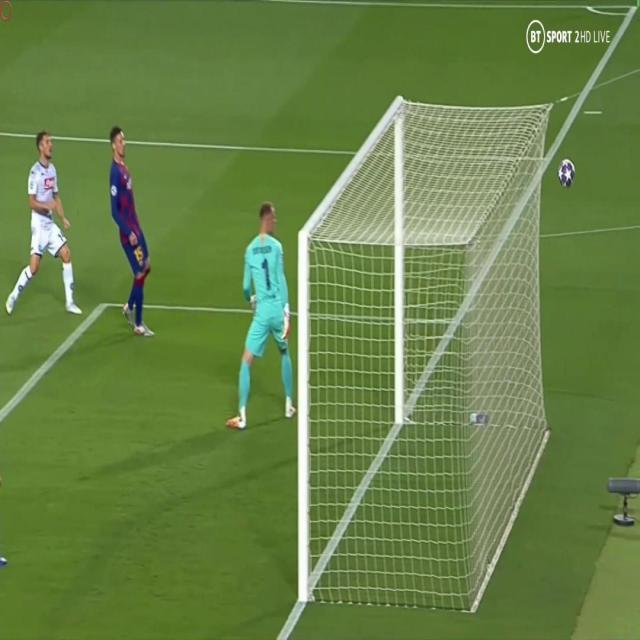ball: (554, 154, 579, 190)
goalkeeper: (218, 202, 301, 432)
player: (5, 129, 84, 321), (96, 119, 156, 334)
